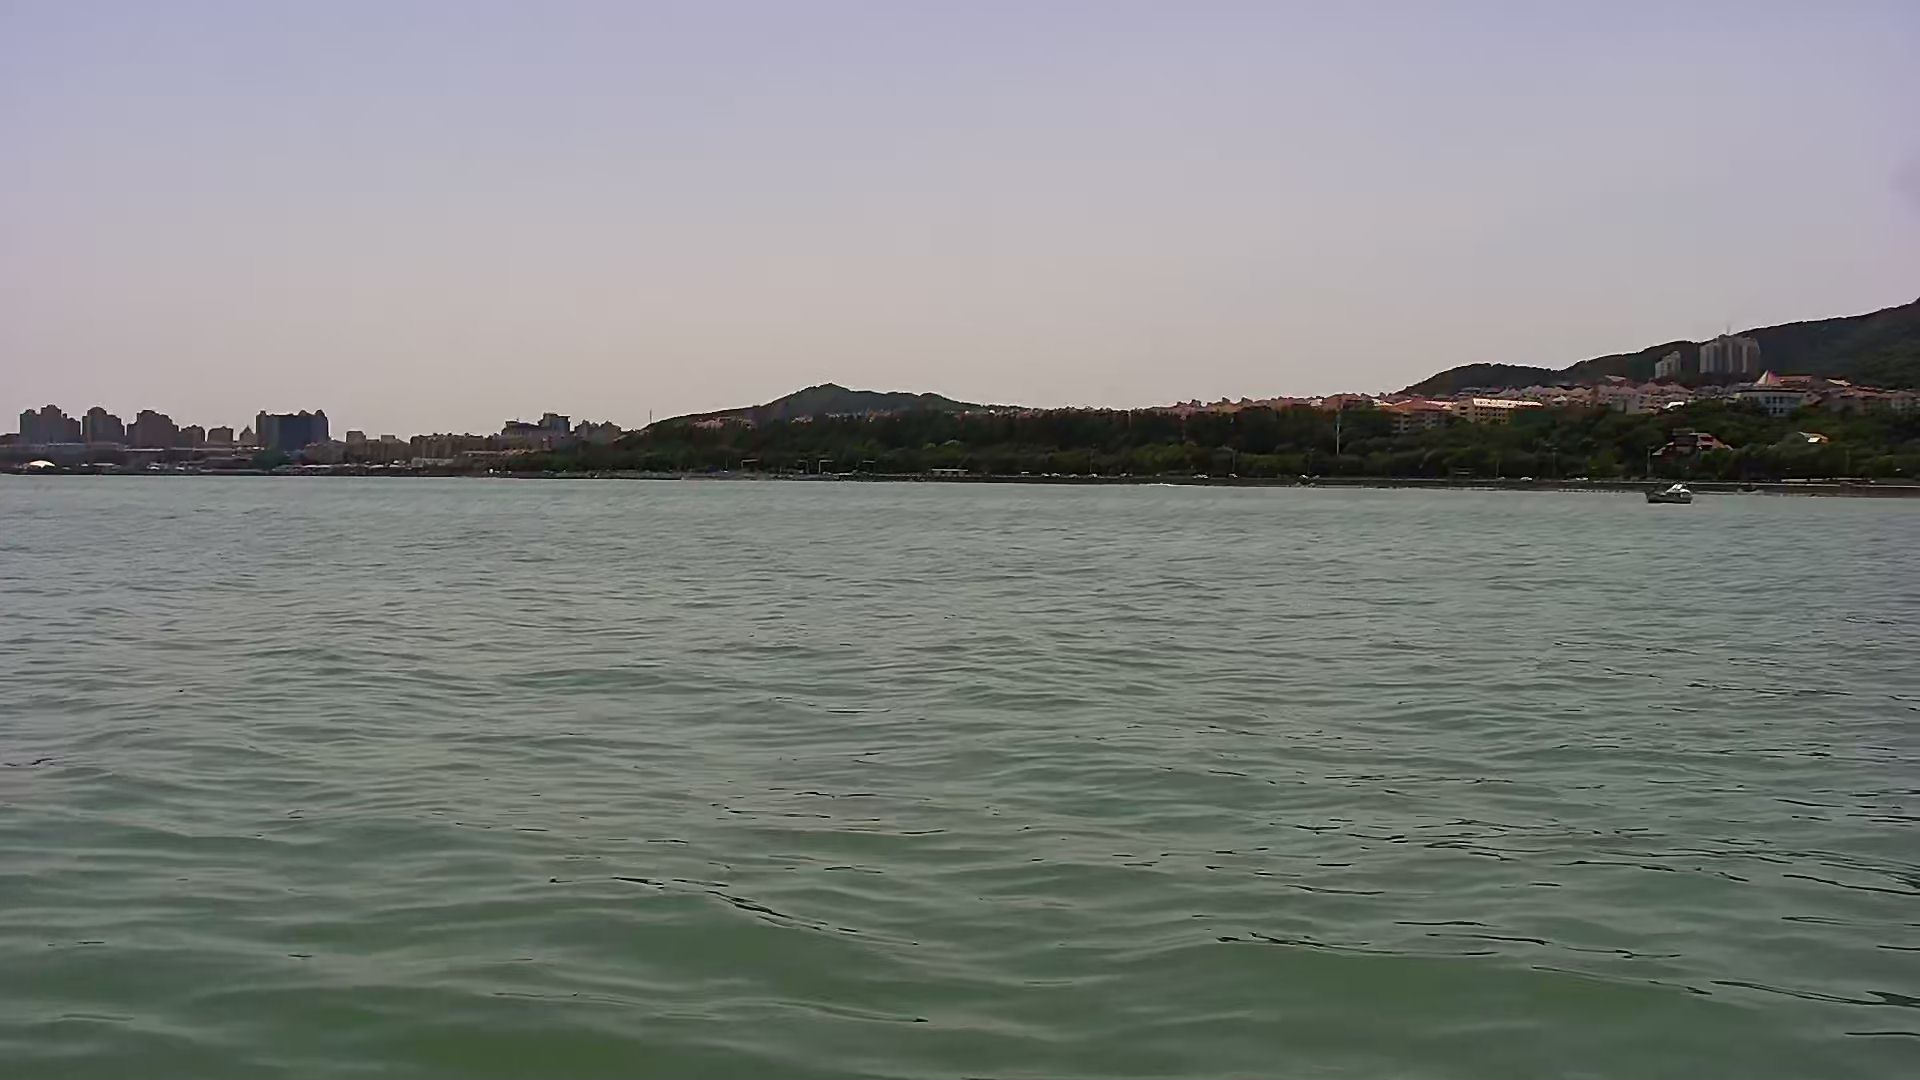ship: (1643, 483, 1700, 508)
